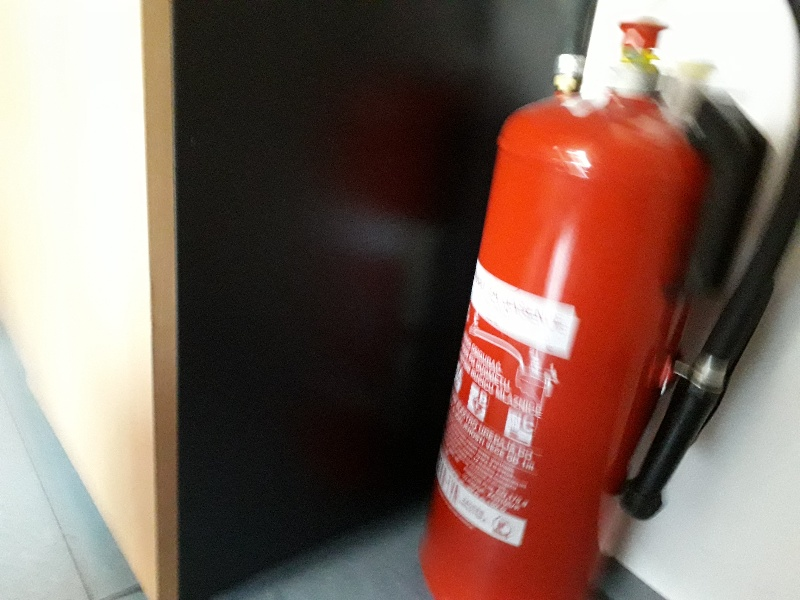vataparat: (417, 5, 800, 597)
